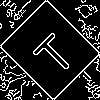T: (25, 25, 78, 79)
